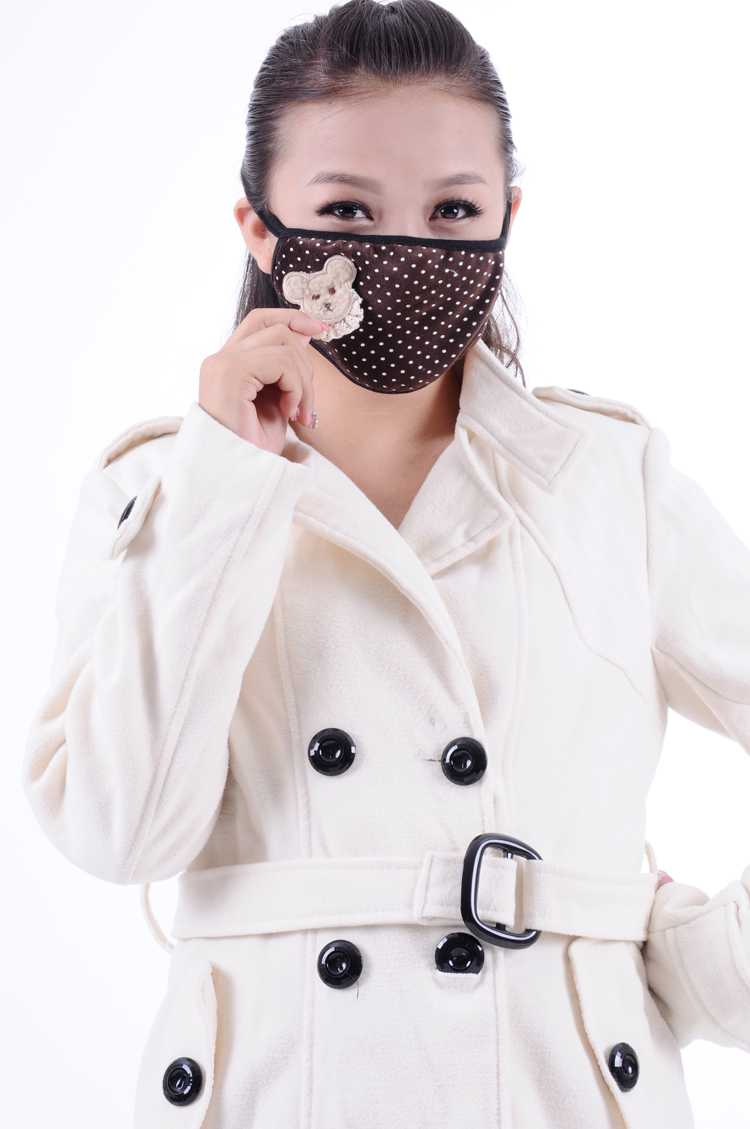face_mask: (273, 75, 502, 394)
